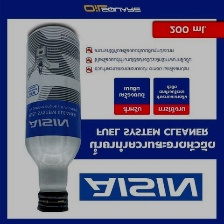cleaning_solution: (22, 22, 84, 214)
